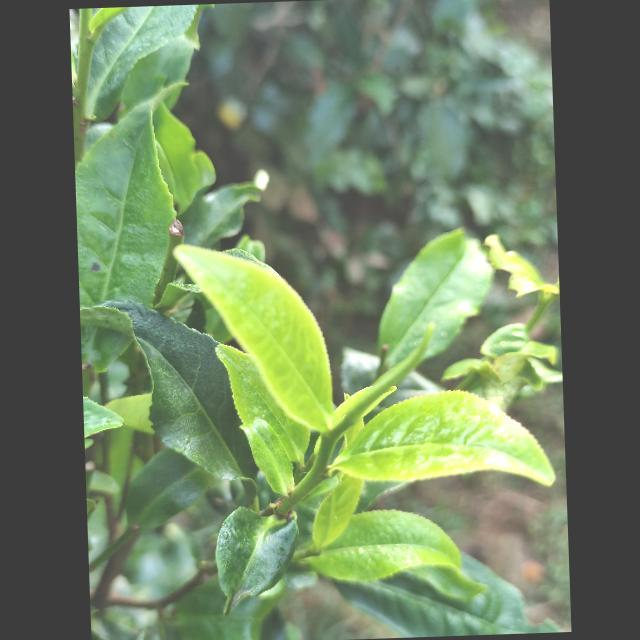Stem: (320, 436, 333, 448)
